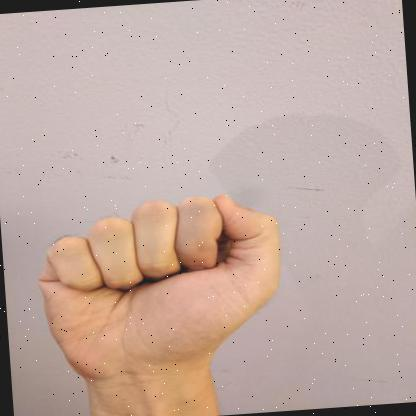A: (38, 195, 280, 383)
